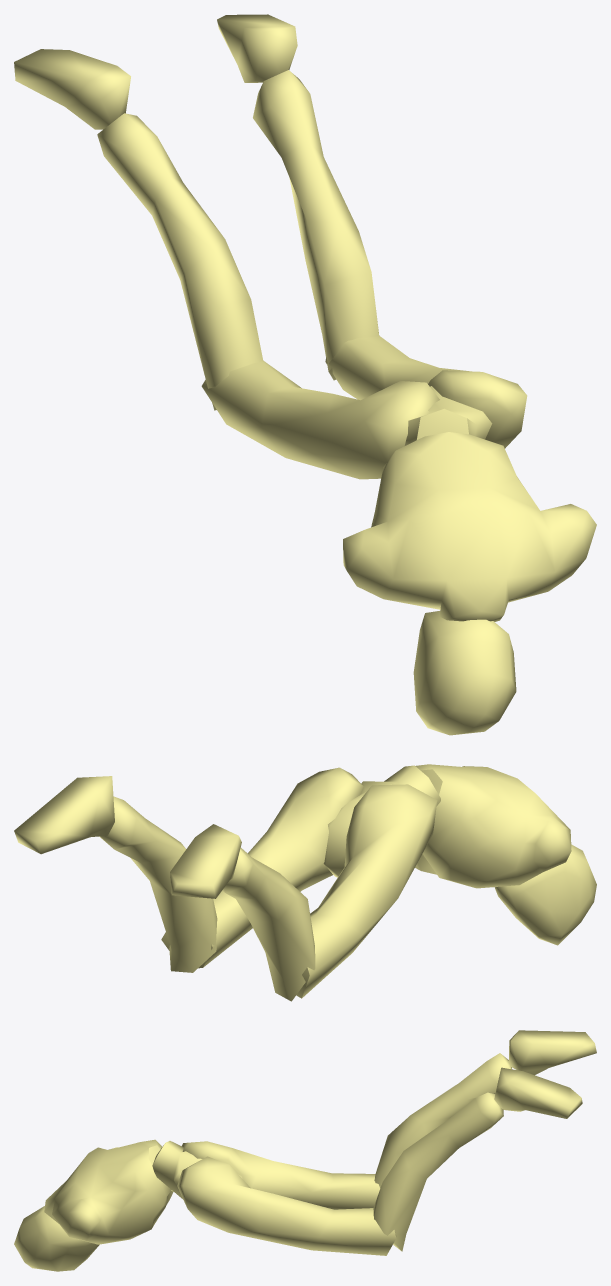
Rendered from filth35.obj.
The picture shows the model from 3 angles, top to bottom: view 1: azimuth 30°, elevation 25°; view 2: azimuth 150°, elevation 25°; view 3: azimuth 270°, elevation 25°; orthographic projection. The views are drawn at different scales.
Parts seen in each view (by area): view 1: Melee_Husk; view 2: Melee_Husk; view 3: Melee_Husk.
Boxes of the visible parts, x1=… form: Melee_Husk: x1=14, y1=14, x2=596, y2=735; Melee_Husk: x1=14, y1=764, x2=596, y2=1001; Melee_Husk: x1=14, y1=1030, x2=596, y2=1271.
Bounding box in the file's own units: 25.94 × 35.04 × 72.63.
